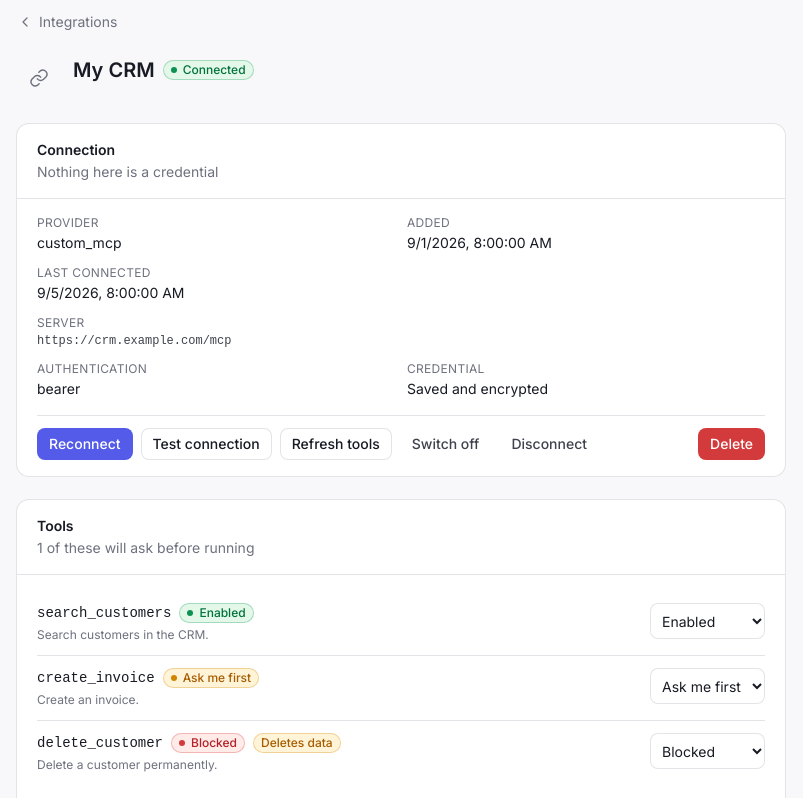
Test: the integration detail page › shows a failed test as a diagnosis rather than as a broken page
This screenshot has width=803, height=798.
Click the button "Test connection".
click(206, 444)  # box [141,428,272,460]
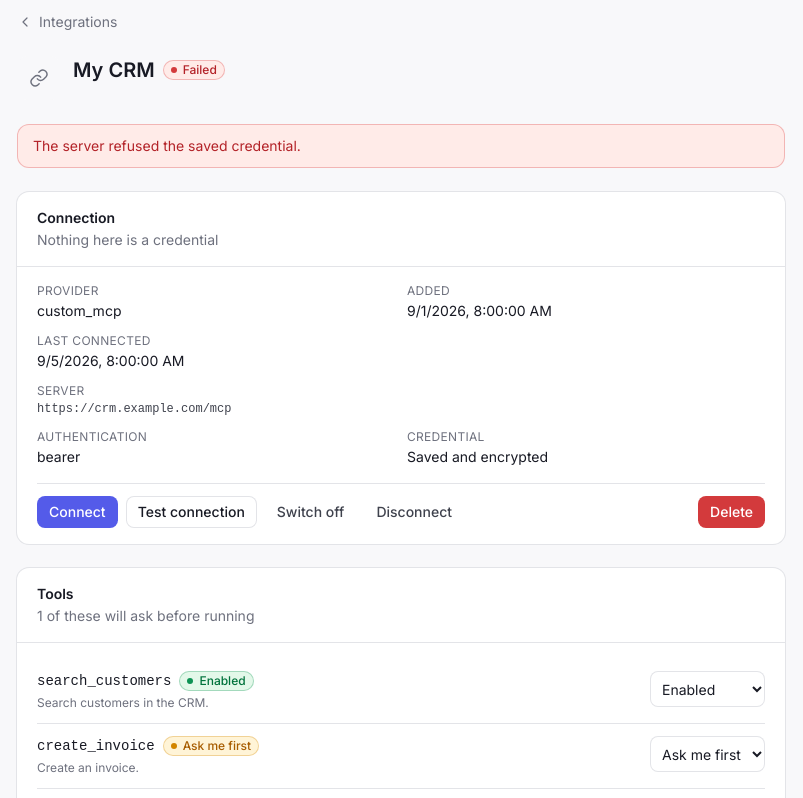
Expected: the element showing "search_customers Enabled Search customers in the CRM." is shown, [37,659,765,724]
Now the text "The server refused the saved credential." is shown, box [17,124,785,168]
